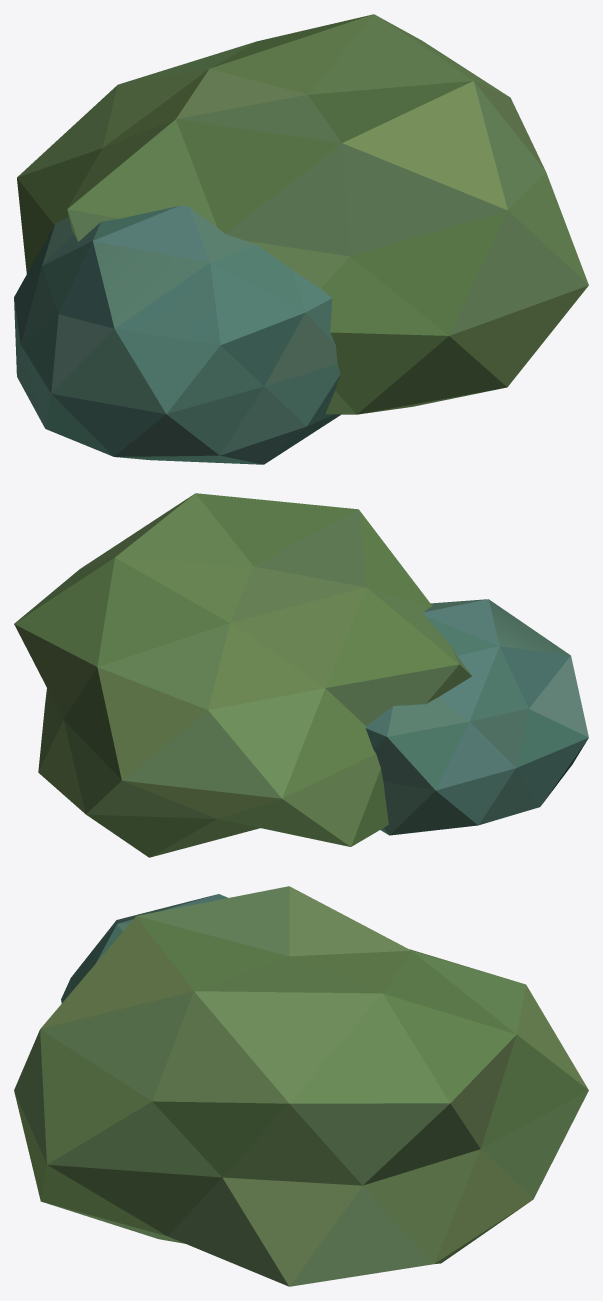
The model's file is HK_Shrub.lod.glb.
The picture shows the model from 3 angles, top to bottom: view 1: azimuth 30°, elevation 25°; view 2: azimuth 150°, elevation 25°; view 3: azimuth 270°, elevation 25°; orthographic projection. The views are drawn at different scales.
Visible parts, largest first — view 1: HK_Shrub; view 2: HK_Shrub; view 3: HK_Shrub.
Boxes of the visible parts, <box> form: HK_Shrub: <box>14,14,588,464</box>; HK_Shrub: <box>14,493,588,857</box>; HK_Shrub: <box>14,886,588,1286</box>.
Size of the model in its own units: 1.81 by 0.9934 by 1.63.
